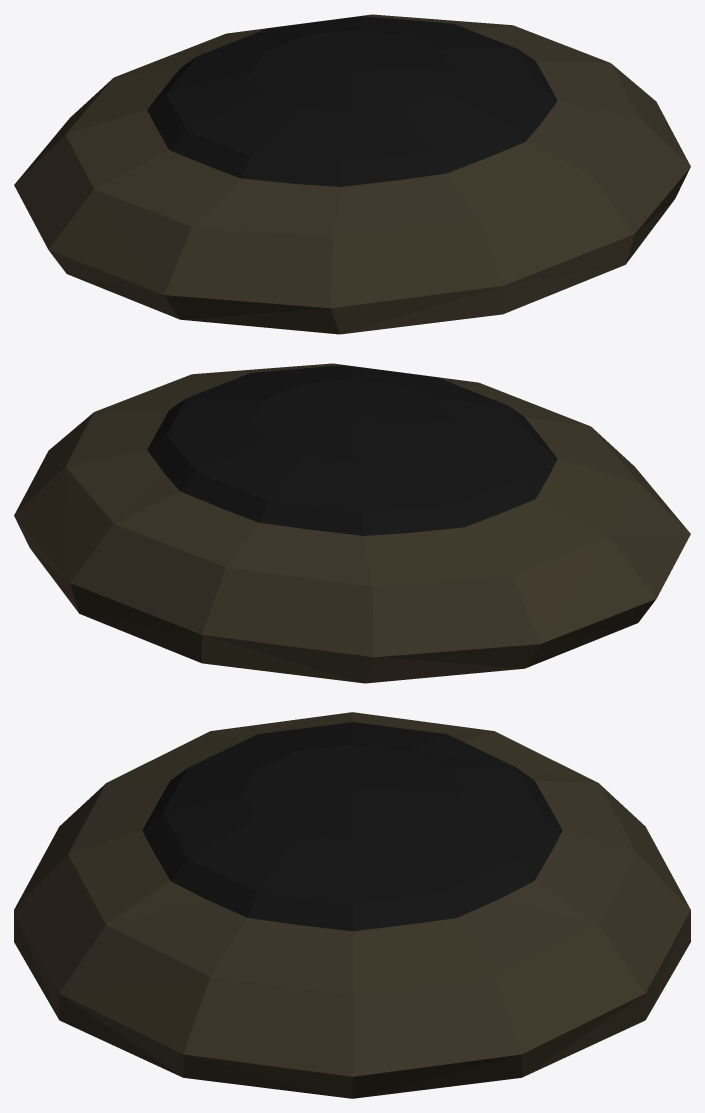
The model's file is yamaka.glb.
3 renders of one model, top to bottom at view 1: azimuth 30°, elevation 25°; view 2: azimuth 150°, elevation 25°; view 3: azimuth 270°, elevation 25°, orthographic. The views are drawn at different scales.
Parts seen in each view (by area): view 1: Yamaka.002; view 2: Yamaka.002; view 3: Yamaka.002.
Part boxes in pixels (left/top/right/bottom): Yamaka.002: left=14, top=14, right=690, bottom=334; Yamaka.002: left=14, top=363, right=690, bottom=683; Yamaka.002: left=14, top=712, right=690, bottom=1098.
Bounding box in the file's own units: 0.5317 × 0.114 × 0.4558.
